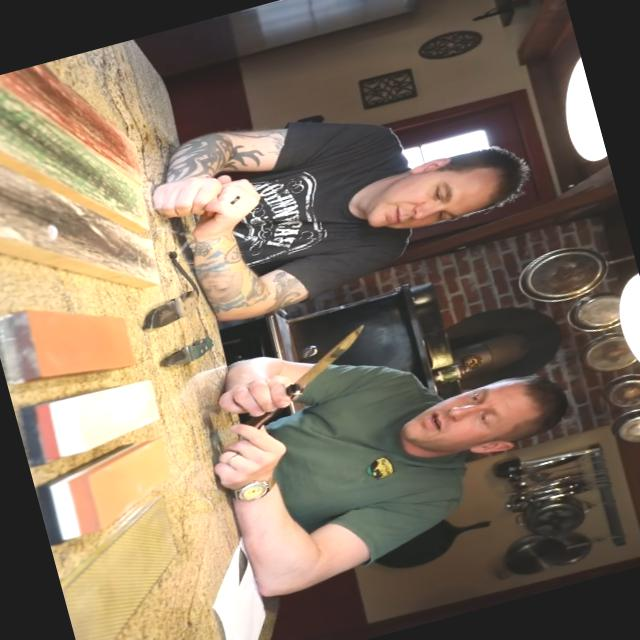knife: (230, 310, 398, 420)
